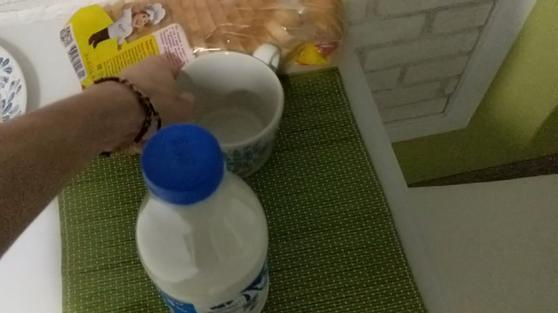milk: (112, 122, 282, 313)
